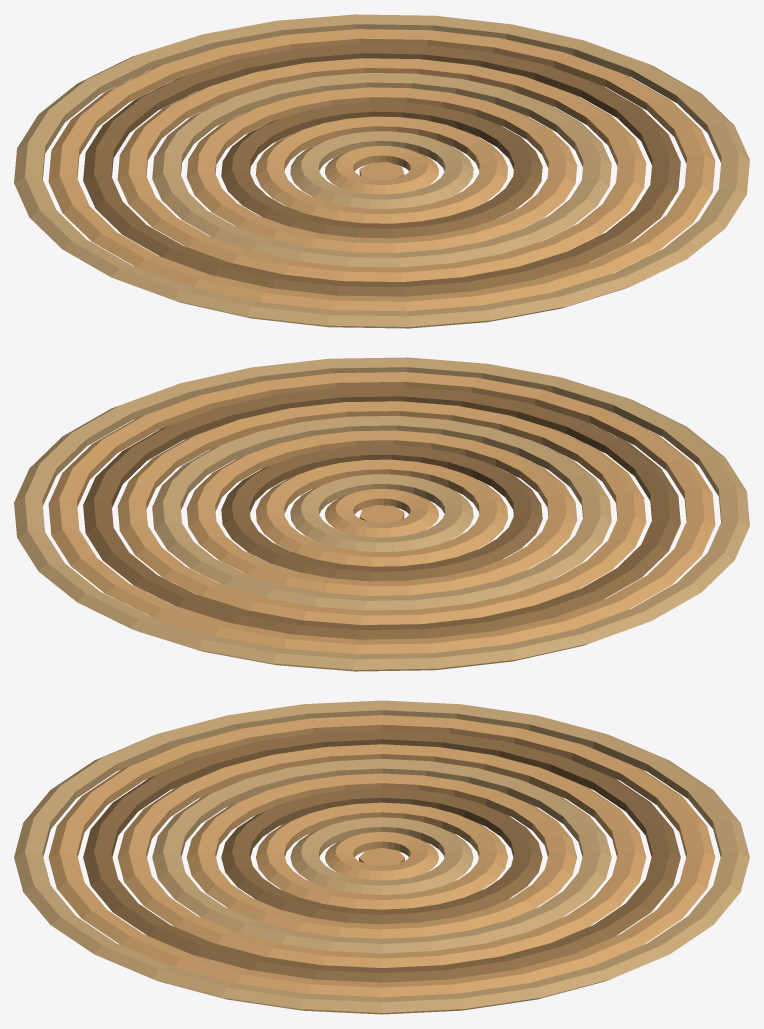
Rendered from woven_round_rug.glb.
The picture shows the model from 3 angles, top to bottom: view 1: azimuth 30°, elevation 25°; view 2: azimuth 150°, elevation 25°; view 3: azimuth 270°, elevation 25°; orthographic projection.
Parts seen in each view (by area): view 1: woven_round_rug; view 2: woven_round_rug; view 3: woven_round_rug.
Boxes of the visible parts, bbox=[...] form: woven_round_rug: bbox=[14, 14, 749, 328]; woven_round_rug: bbox=[14, 357, 749, 671]; woven_round_rug: bbox=[14, 700, 749, 1014].
Size of the model in its own units: 1.6 by 0.0291 by 1.6.
